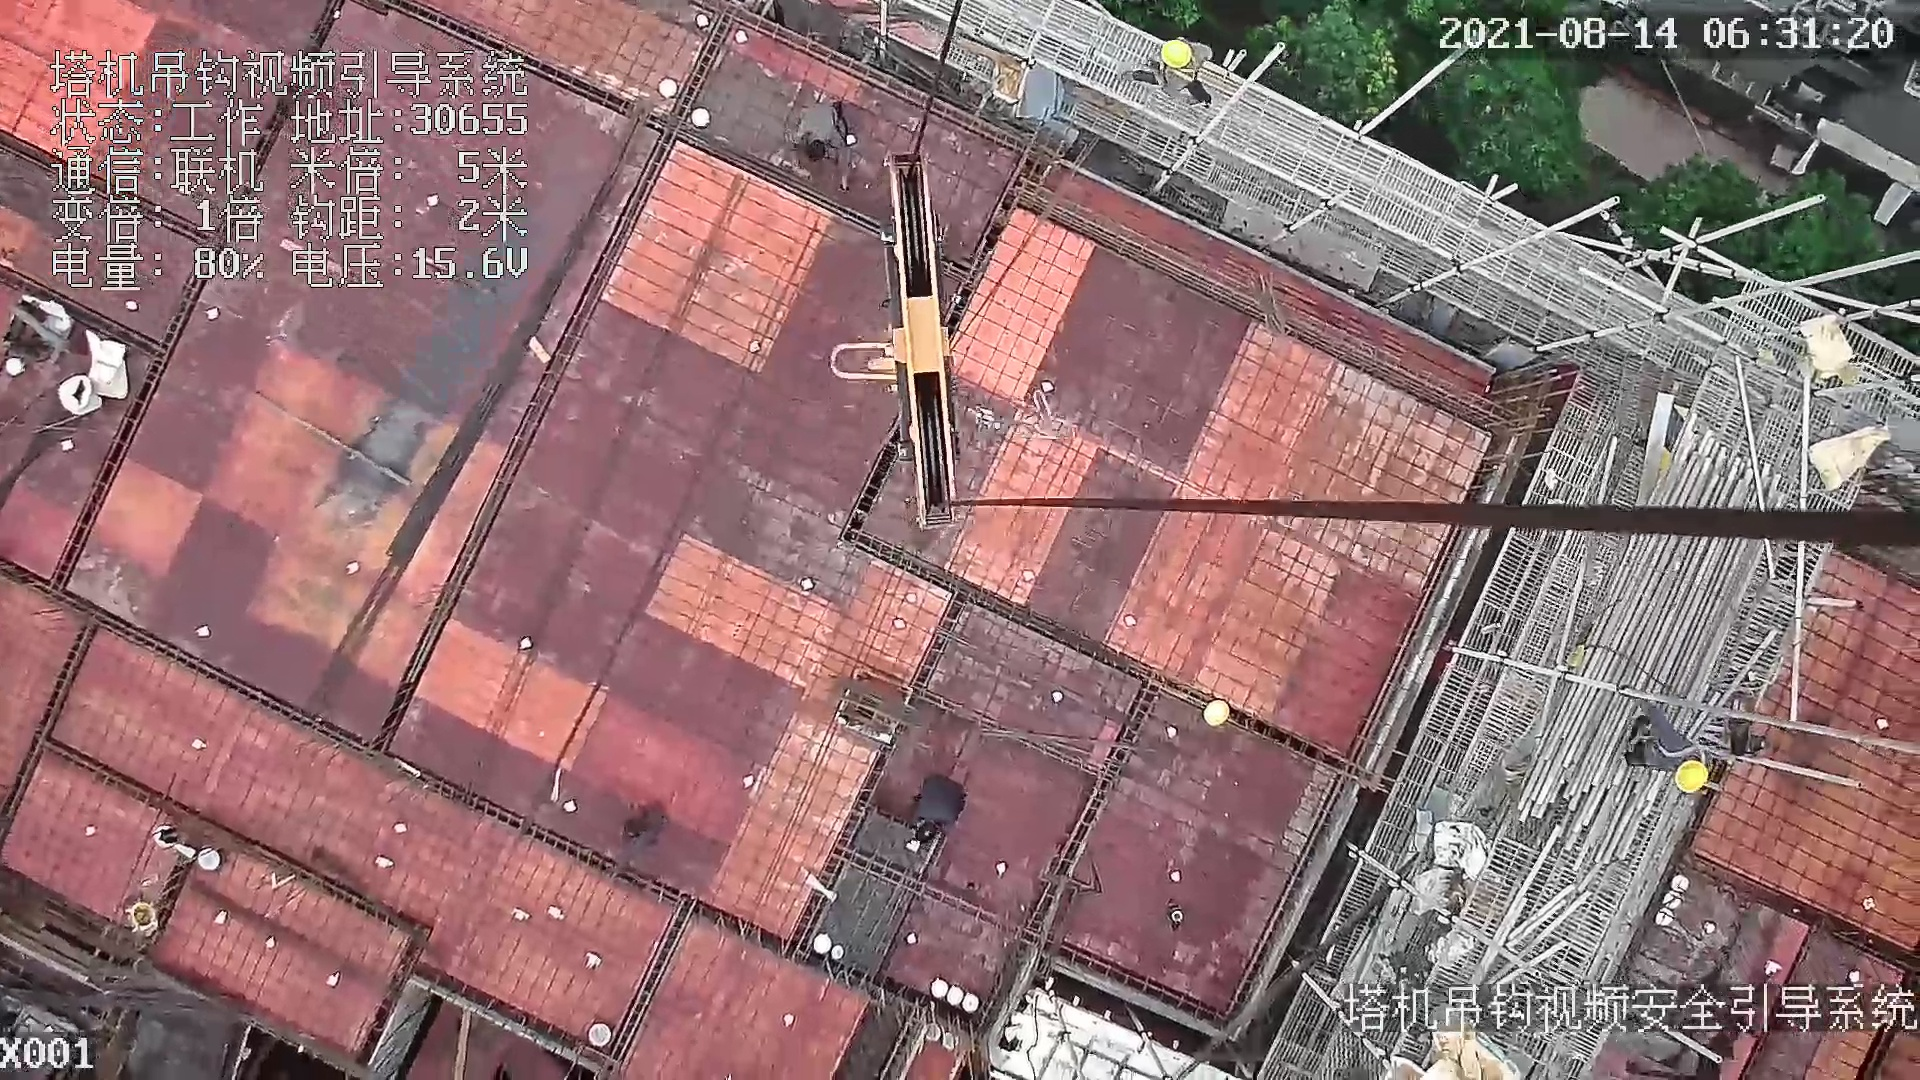helmet: (1674, 759, 1708, 796), (1157, 37, 1190, 67), (1201, 698, 1230, 730)
person: (1624, 694, 1722, 796), (1127, 37, 1208, 113), (901, 771, 972, 845), (788, 96, 855, 159)
